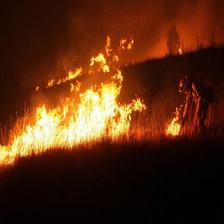fire: (1, 57, 177, 158)
